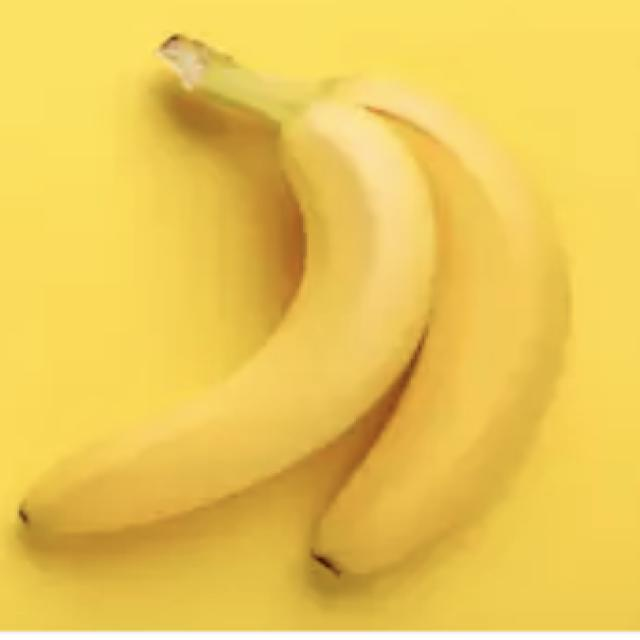banana: (21, 38, 437, 534), (315, 80, 569, 575)
